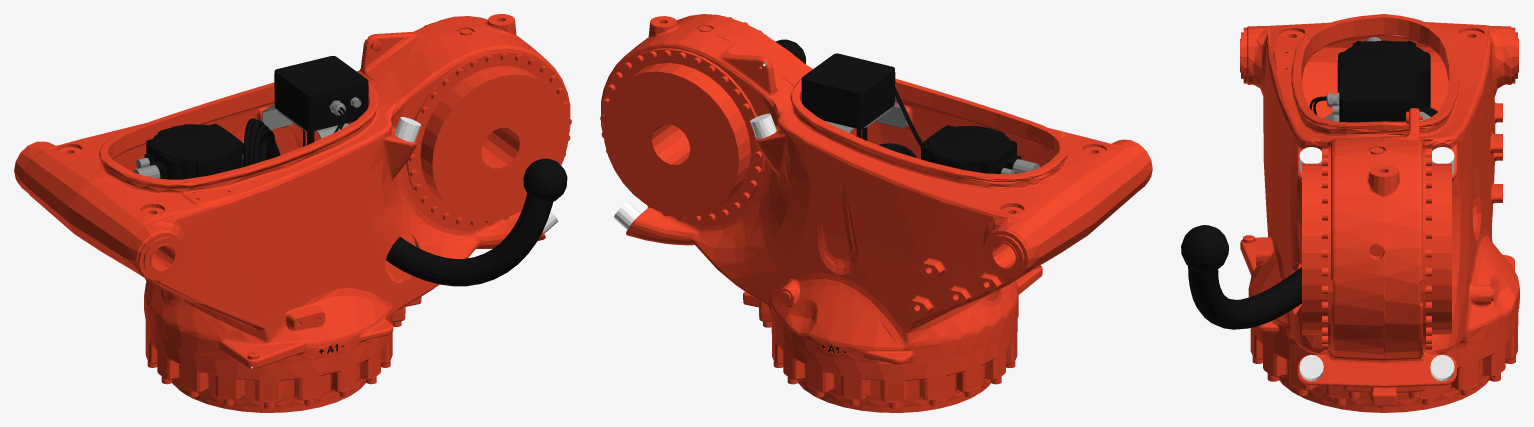
3 views of the same model, side by side, from view 1: azimuth 30°, elevation 25°; view 2: azimuth 150°, elevation 25°; view 3: azimuth 270°, elevation 25° (orthographic). The views are drawn at different scales.
Parts seen in each view (by area): view 1: link_1; view 2: link_1; view 3: link_1.
Part boxes in pixels (bbox=[...]): link_1: bbox=[14, 14, 571, 412]; link_1: bbox=[600, 14, 1152, 412]; link_1: bbox=[1181, 14, 1519, 412].
Bounding box in the file's own units: 1.24 × 0.6995 × 0.7294.
